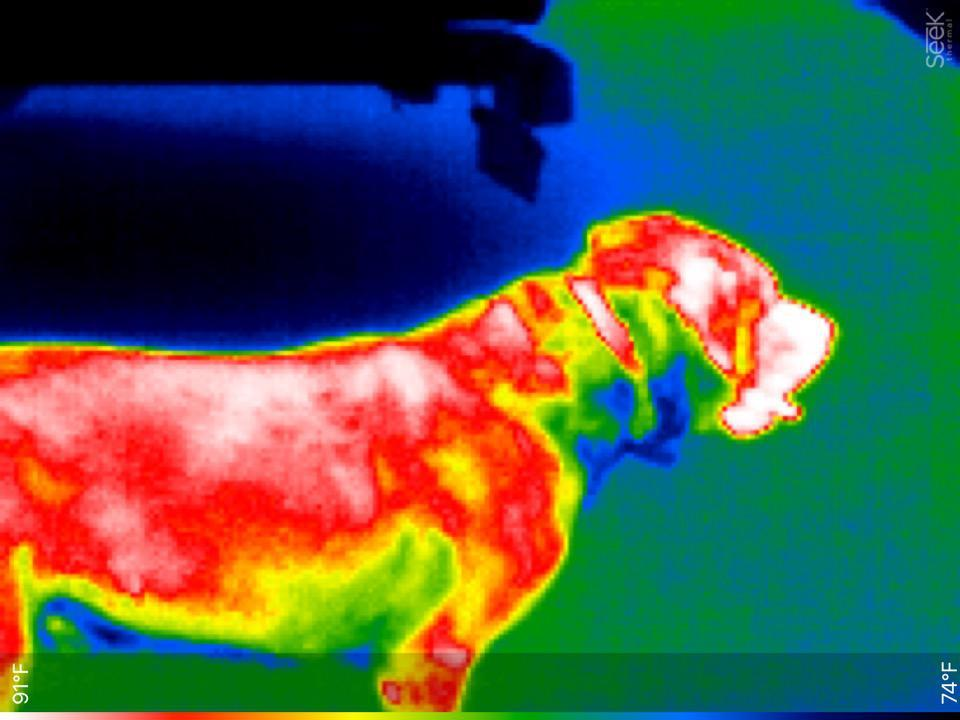dog: (0, 205, 846, 711)
